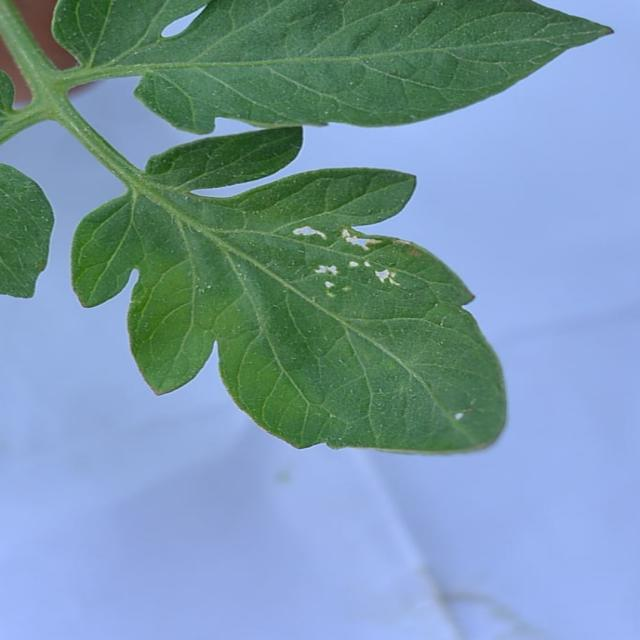infected: (245, 213, 453, 299)
